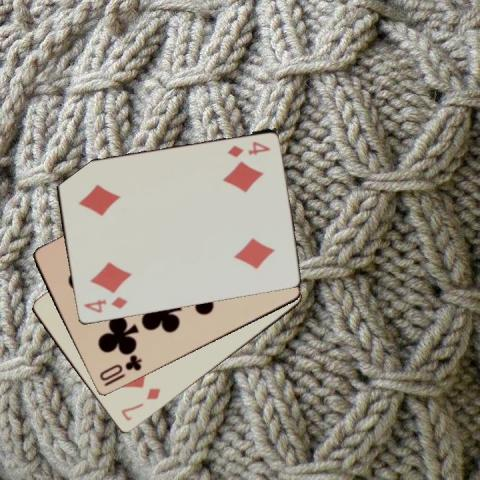10c: (96, 352, 143, 388)
4d: (80, 294, 129, 315), (224, 138, 271, 158)
7d: (118, 385, 162, 423)
